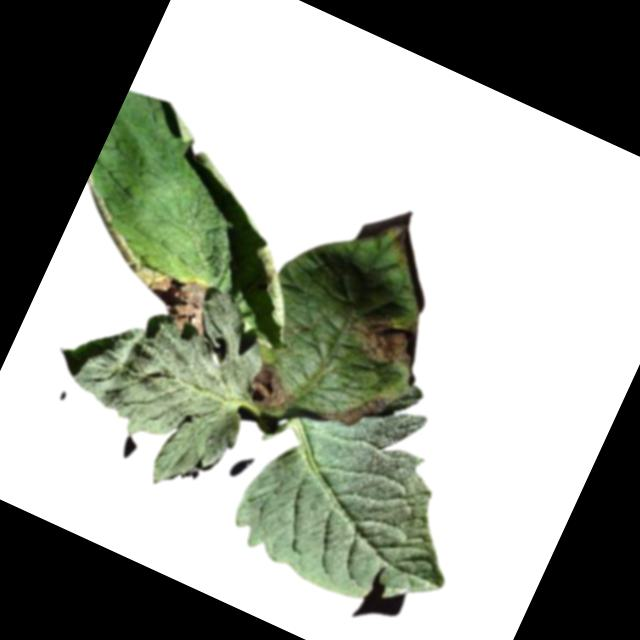Late_blight: (116, 252, 226, 346), (342, 302, 431, 377), (325, 378, 387, 437), (244, 359, 301, 418), (369, 216, 424, 268)
